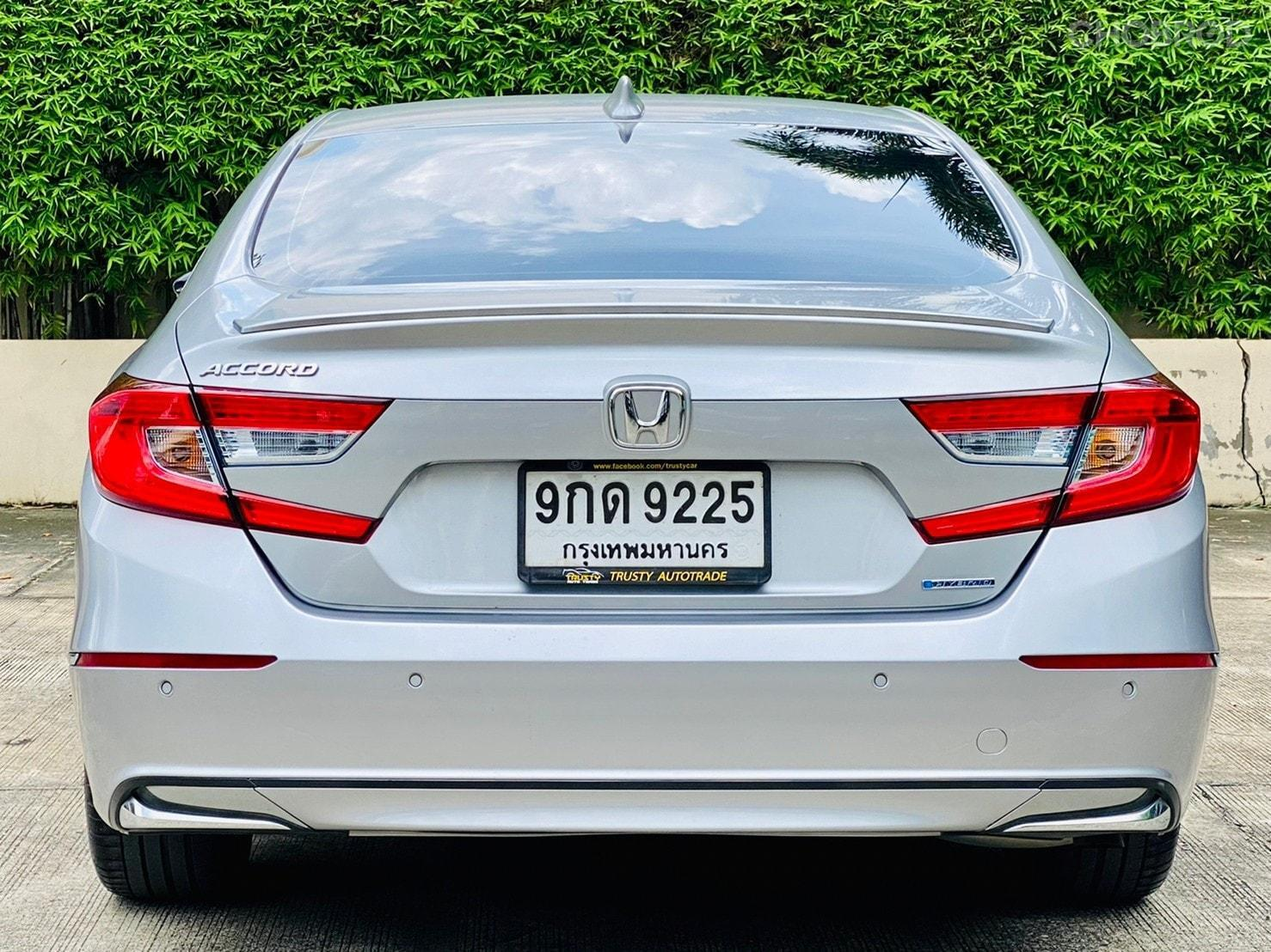license-plate: (508, 450, 786, 601)
